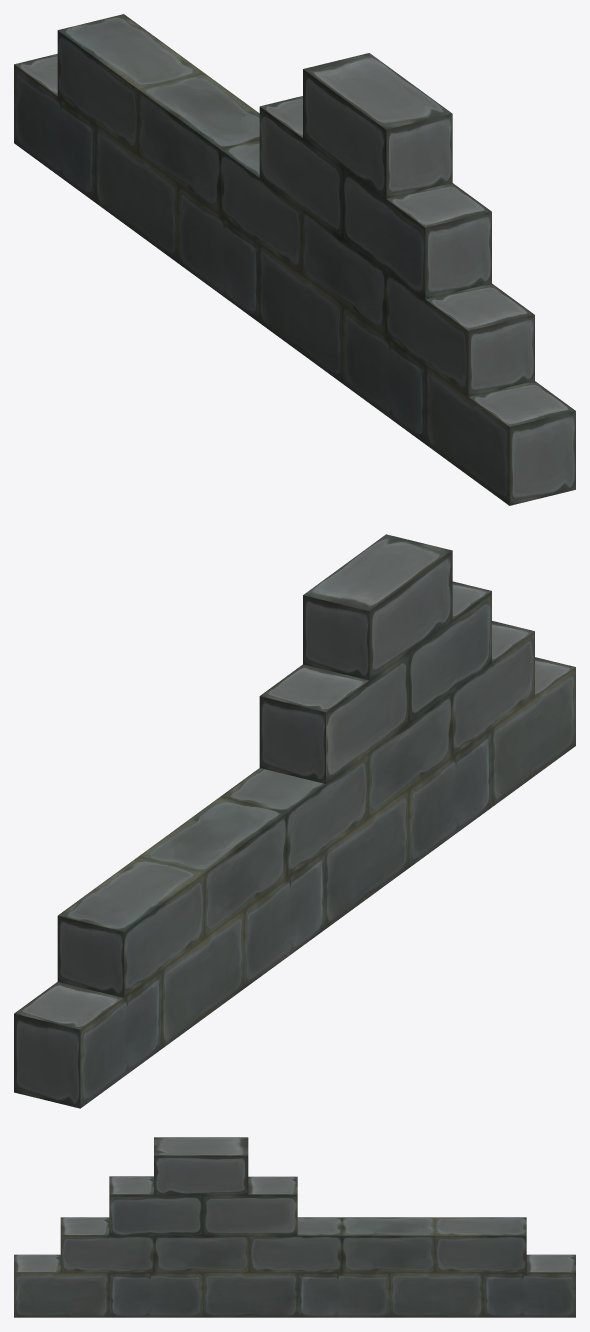
Rendered from wallTopper3.FBX.
The picture shows the model from 3 angles, top to bottom: view 1: azimuth 30°, elevation 25°; view 2: azimuth 150°, elevation 25°; view 3: azimuth 270°, elevation 25°; orthographic projection. The views are drawn at different scales.
Parts seen in each view (by area): view 1: wall_topper3; view 2: wall_topper3; view 3: wall_topper3.
Part boxes in pixels (x1=…): wall_topper3: x1=14, y1=14, x2=575, y2=505; wall_topper3: x1=14, y1=534, x2=575, y2=1108; wall_topper3: x1=14, y1=1137, x2=575, y2=1317.
Bounding box in the file's own units: 13.23 × 54.42 × 171.
Materials: 1 (1 with a texture image).
